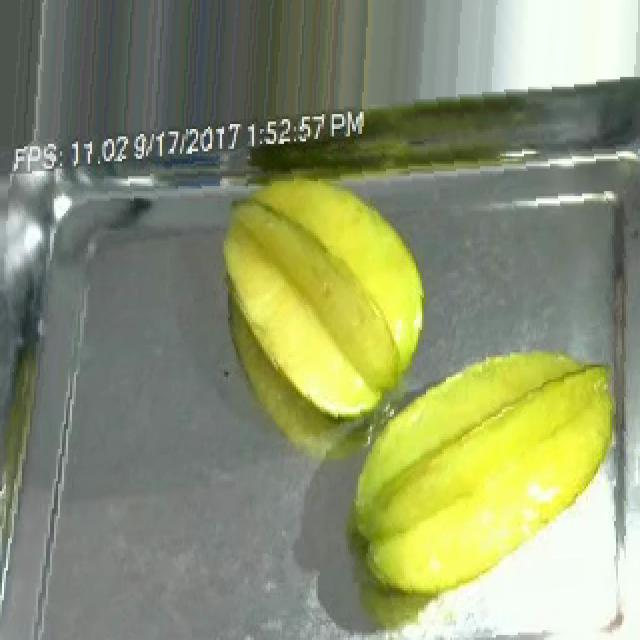fruit: (336, 332, 632, 603), (212, 169, 440, 434)
